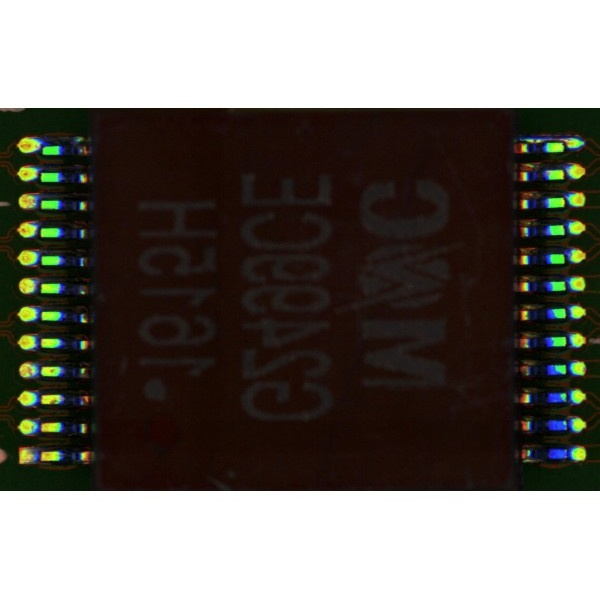Bad_qiaojiao: (519, 138, 560, 143)
